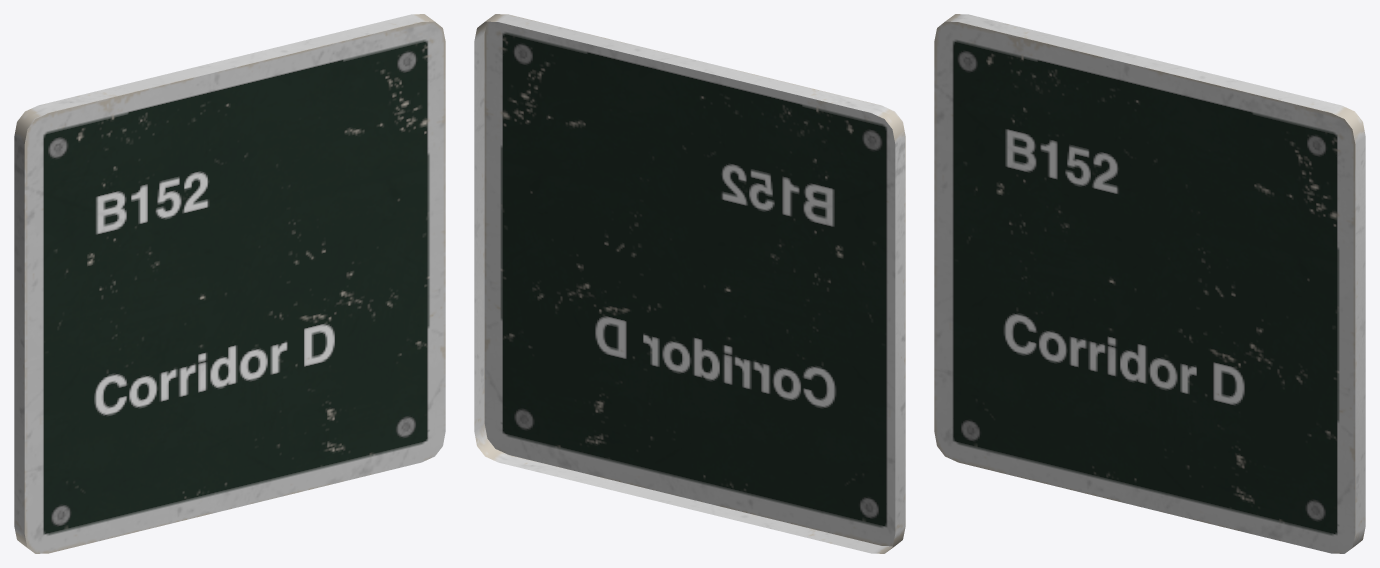
The model's file is SM_Sign_11.fbx.
The picture shows the model from 3 angles, left to right: view 1: azimuth 30°, elevation 25°; view 2: azimuth 150°, elevation 25°; view 3: azimuth 330°, elevation 25°; orthographic projection.
Parts seen in each view (by area): view 1: SM_Sign_11; view 2: SM_Sign_11; view 3: SM_Sign_11.
Boxes of the visible parts, x1,y1,x2,y2 form: SM_Sign_11: [14, 14, 445, 553]; SM_Sign_11: [474, 14, 905, 553]; SM_Sign_11: [934, 14, 1365, 553].
Size of the model in its own units: 35 by 1.5 by 35.
Materials: 1 (1 with a texture image).
